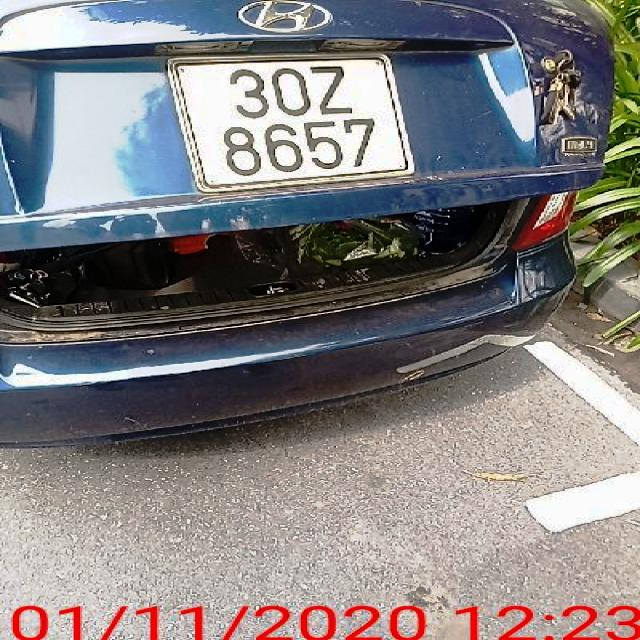license_plate: (171, 54, 418, 192)
